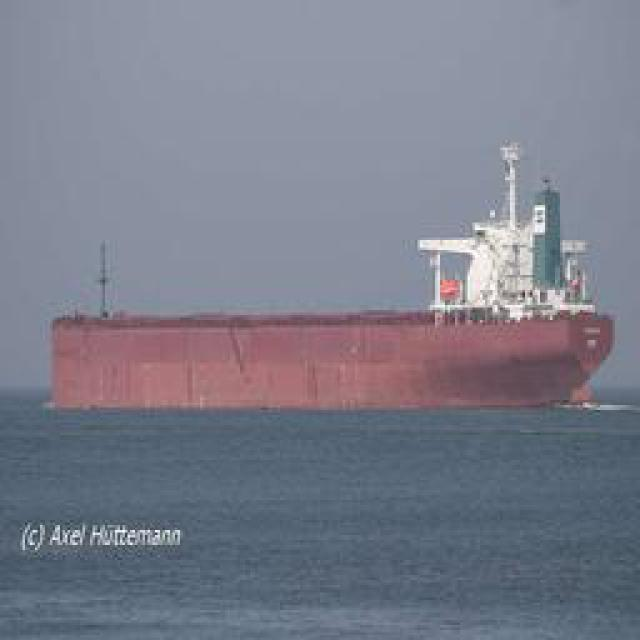Ship: (46, 135, 611, 421)
